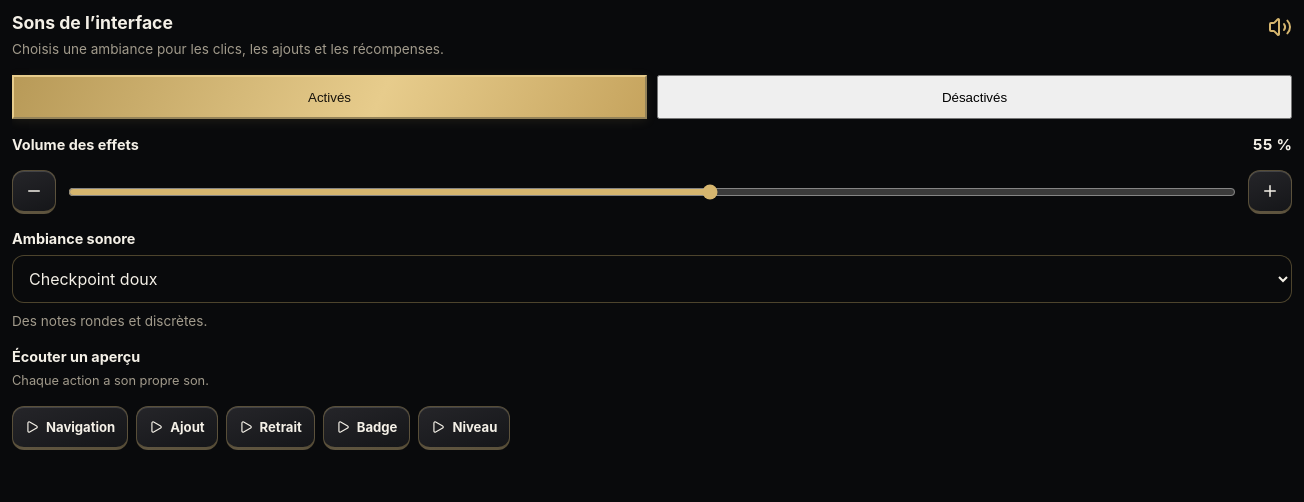
Test case: reports blocked playback and ignores stale preview responses after a style change
Click the button with aria-label "Écouter : Badge": x=367, y=428 x1=323 y1=406 x2=410 y2=450
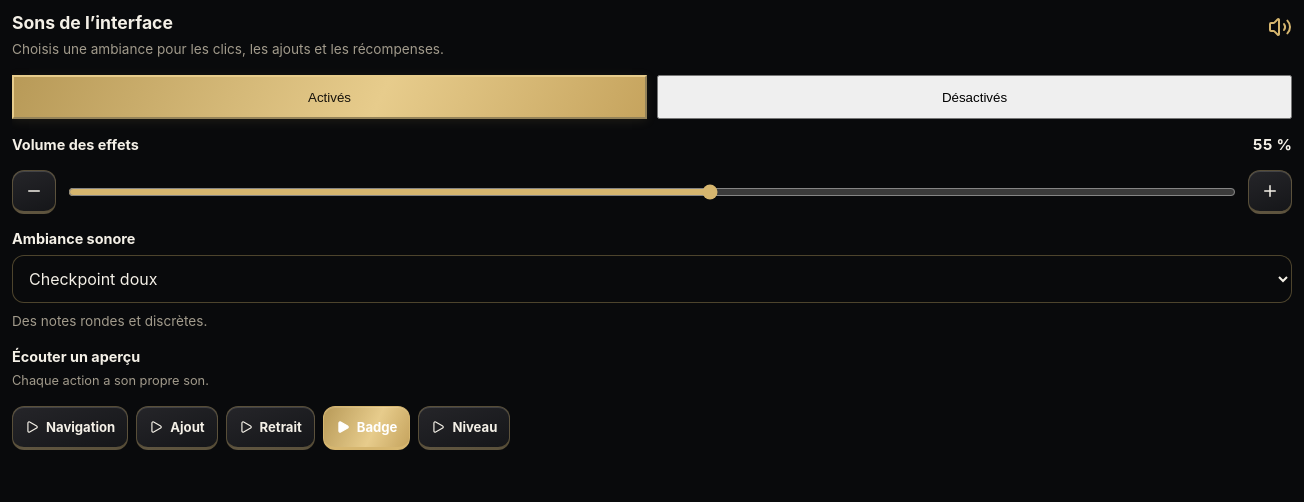
Select "Station orbitale" in the dropdown labelled "Ambiance sonore": x=652, y=279 x1=12 y1=255 x2=1292 y2=303
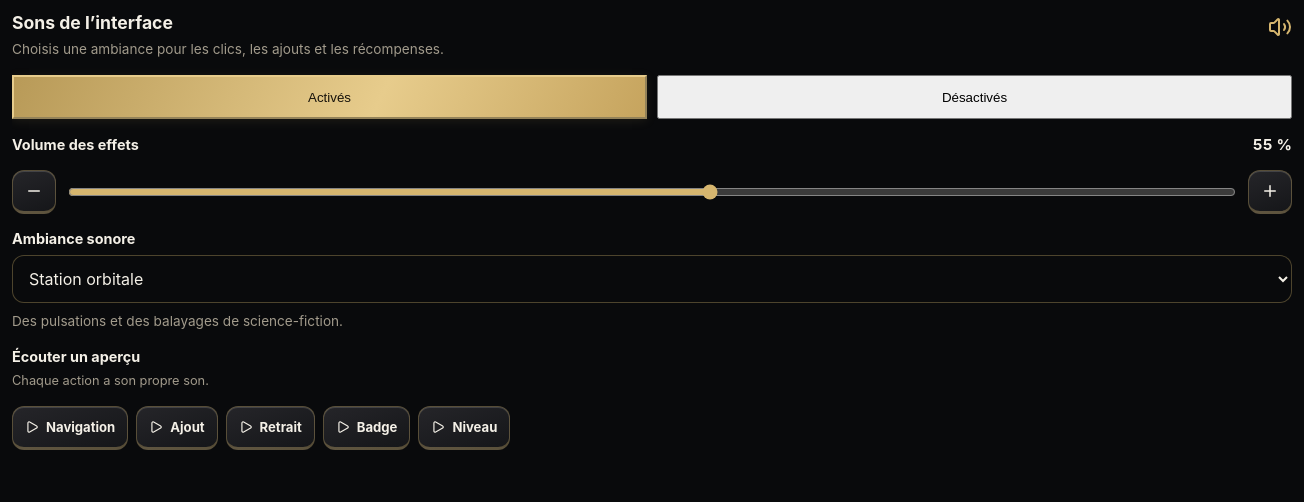
Expected: the message named "État de l’aperçu" is empty, x1=12 y1=466 x2=1292 y2=485
Click the button with aria-label "Écouter : Badge": x=367, y=428 x1=323 y1=406 x2=410 y2=450
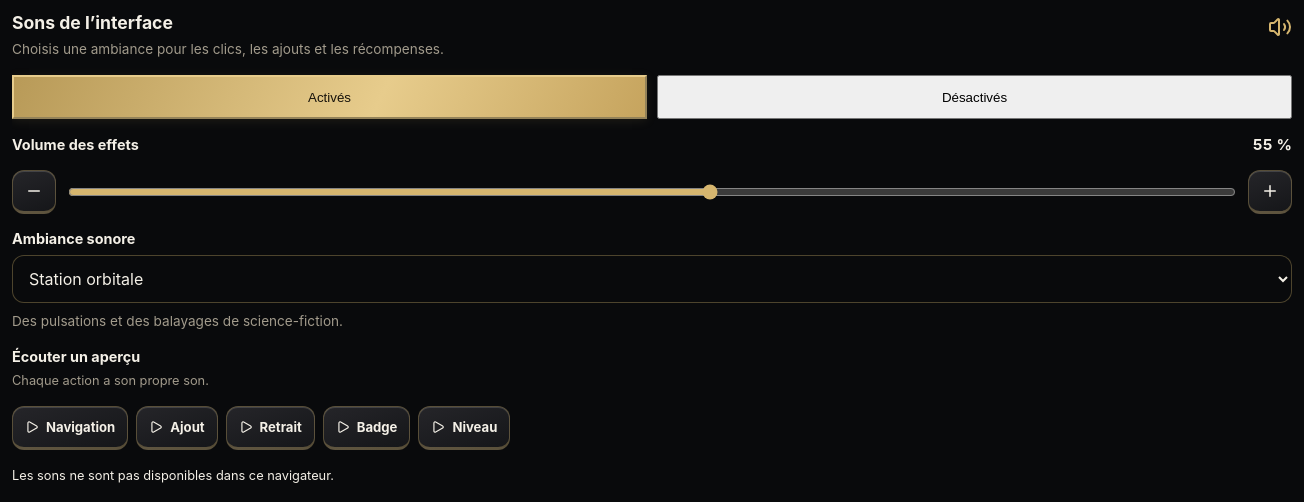
Now the message named "État de l’aperçu" shows "pas disponibles dans ce navigateur", box x1=12 y1=468 x2=334 y2=483
